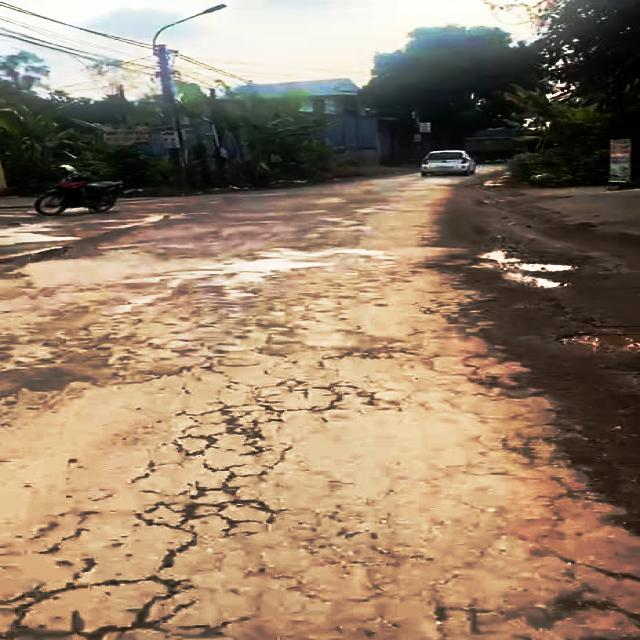pothole: (134, 384, 360, 540), (0, 573, 243, 640), (539, 555, 640, 629), (476, 246, 576, 288), (549, 330, 640, 355), (26, 245, 72, 261)
